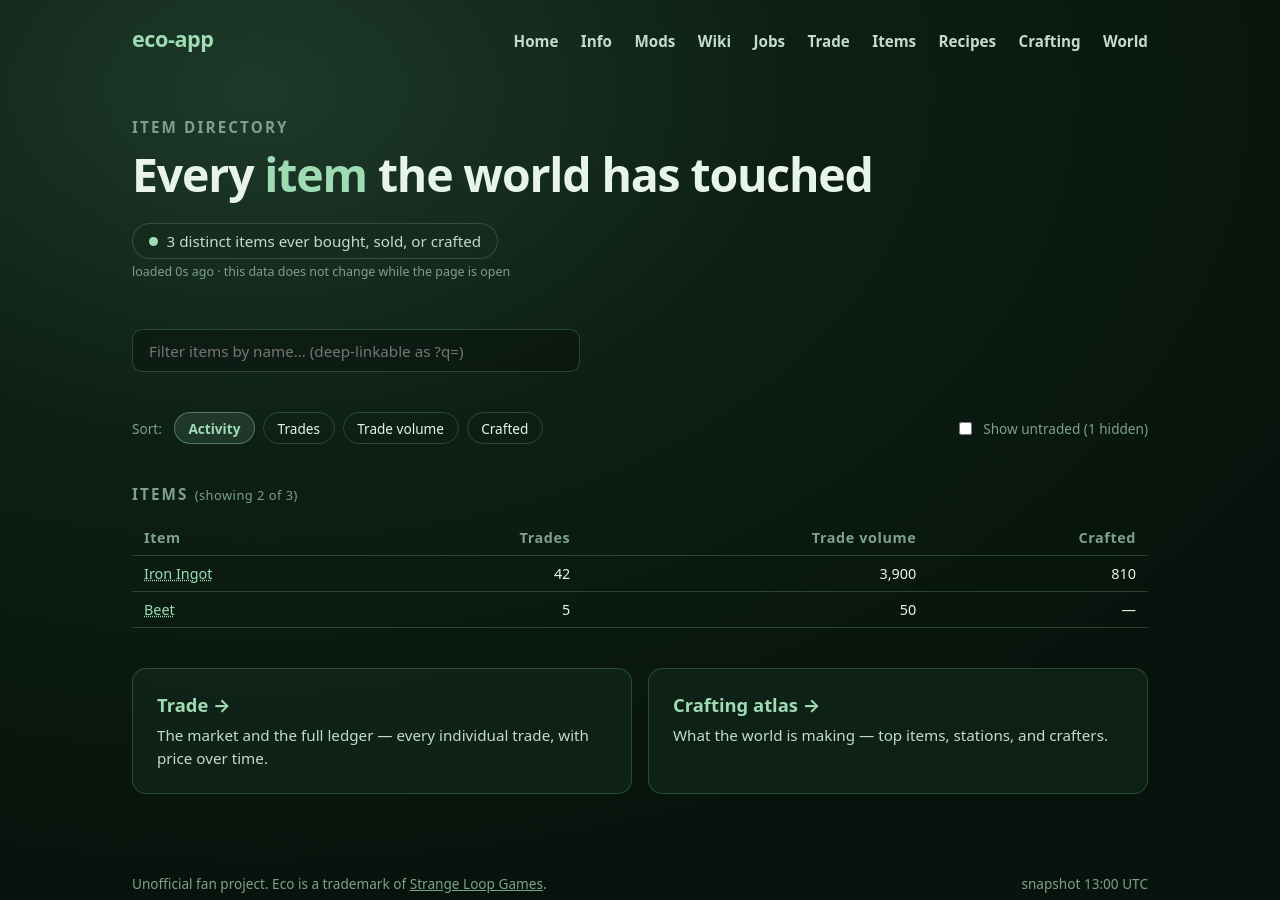
Test: Items › reveals untraded items when the toggle is checked
The image size is (1280, 900).
Check: the link "Iron Ingot" is shown, box [144, 564, 212, 583]
Click the checkbox labelled "Show untraded (1 hidden)": (966, 428) [959, 422, 972, 435]
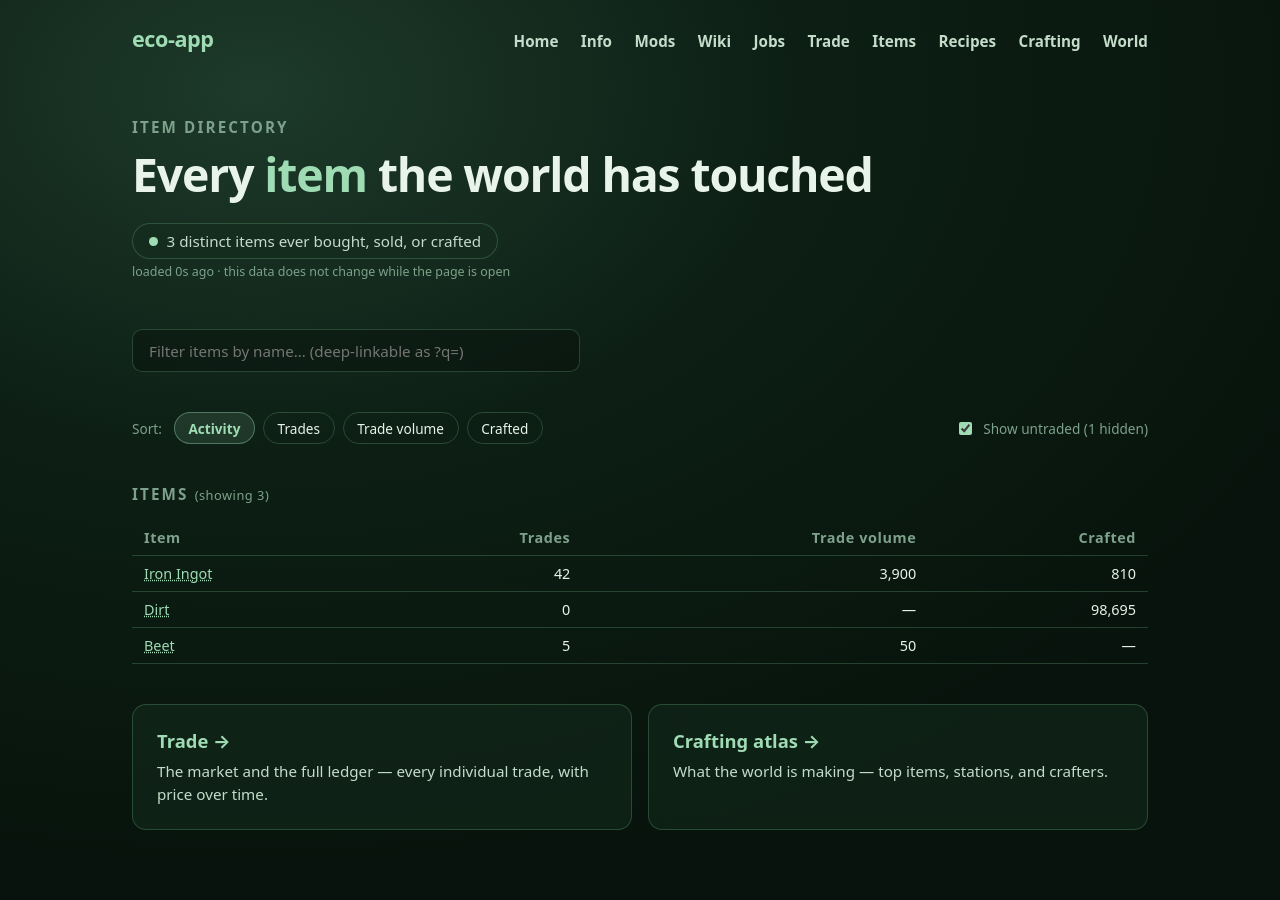
Check: the link "Dirt" is shown, box [144, 600, 169, 619]
Check: the number of rows with test id "item-row" is 3, box [132, 556, 1148, 592]; [132, 592, 1148, 628]; [132, 628, 1148, 664]
